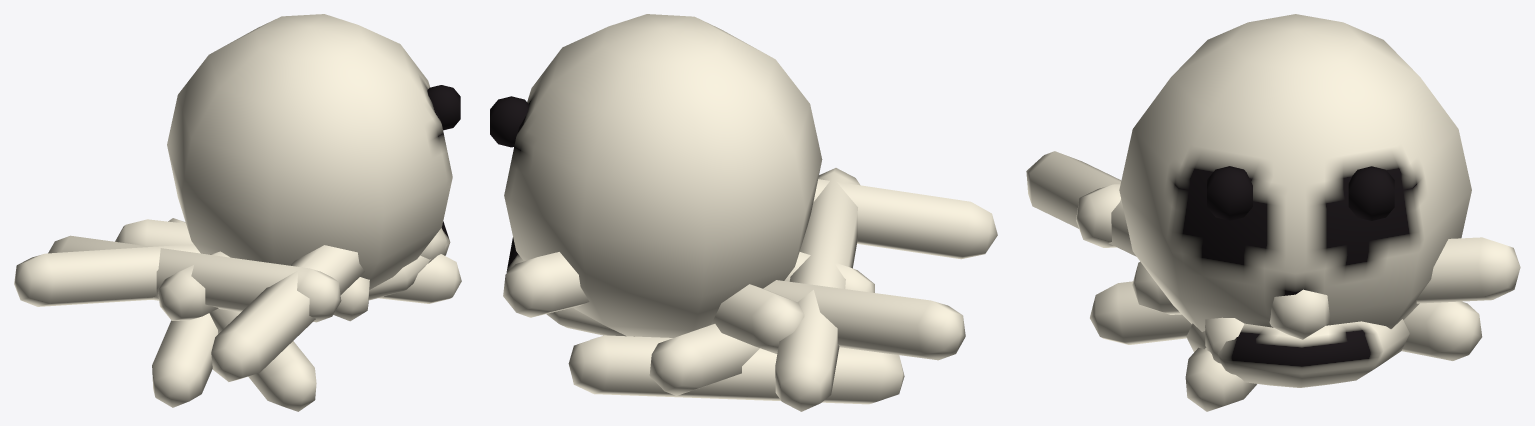
File: prop_bonepile3_c084.glb
3 views of the same model, side by side, from view 1: azimuth 30°, elevation 25°; view 2: azimuth 150°, elevation 25°; view 3: azimuth 270°, elevation 25° (orthographic). The views are drawn at different scales.
Parts seen in each view (by area): view 1: prop_bonepile3_c084; view 2: prop_bonepile3_c084; view 3: prop_bonepile3_c084.
Part boxes in pixels (<box>): prop_bonepile3_c084: <box>14,14,461,411</box>; prop_bonepile3_c084: <box>490,14,997,411</box>; prop_bonepile3_c084: <box>1026,14,1520,411</box>.
Size of the model in its own units: 0.5856 by 0.4306 by 0.5078.
1 material, 1 textured.
